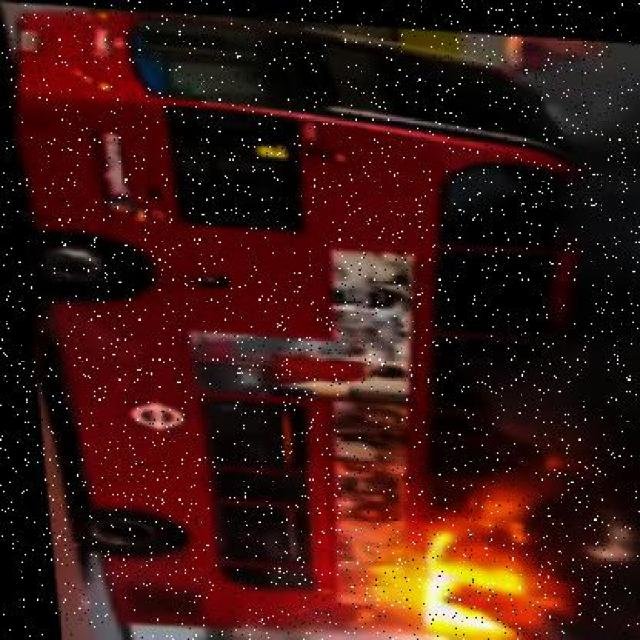fire: (401, 23, 570, 559), (411, 486, 640, 640), (482, 585, 562, 634)
